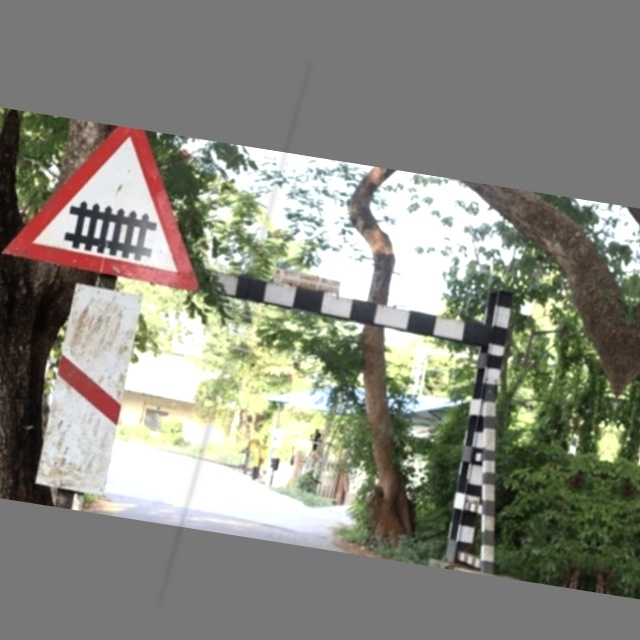Guarded_Level_Crossing: (15, 121, 218, 294)
